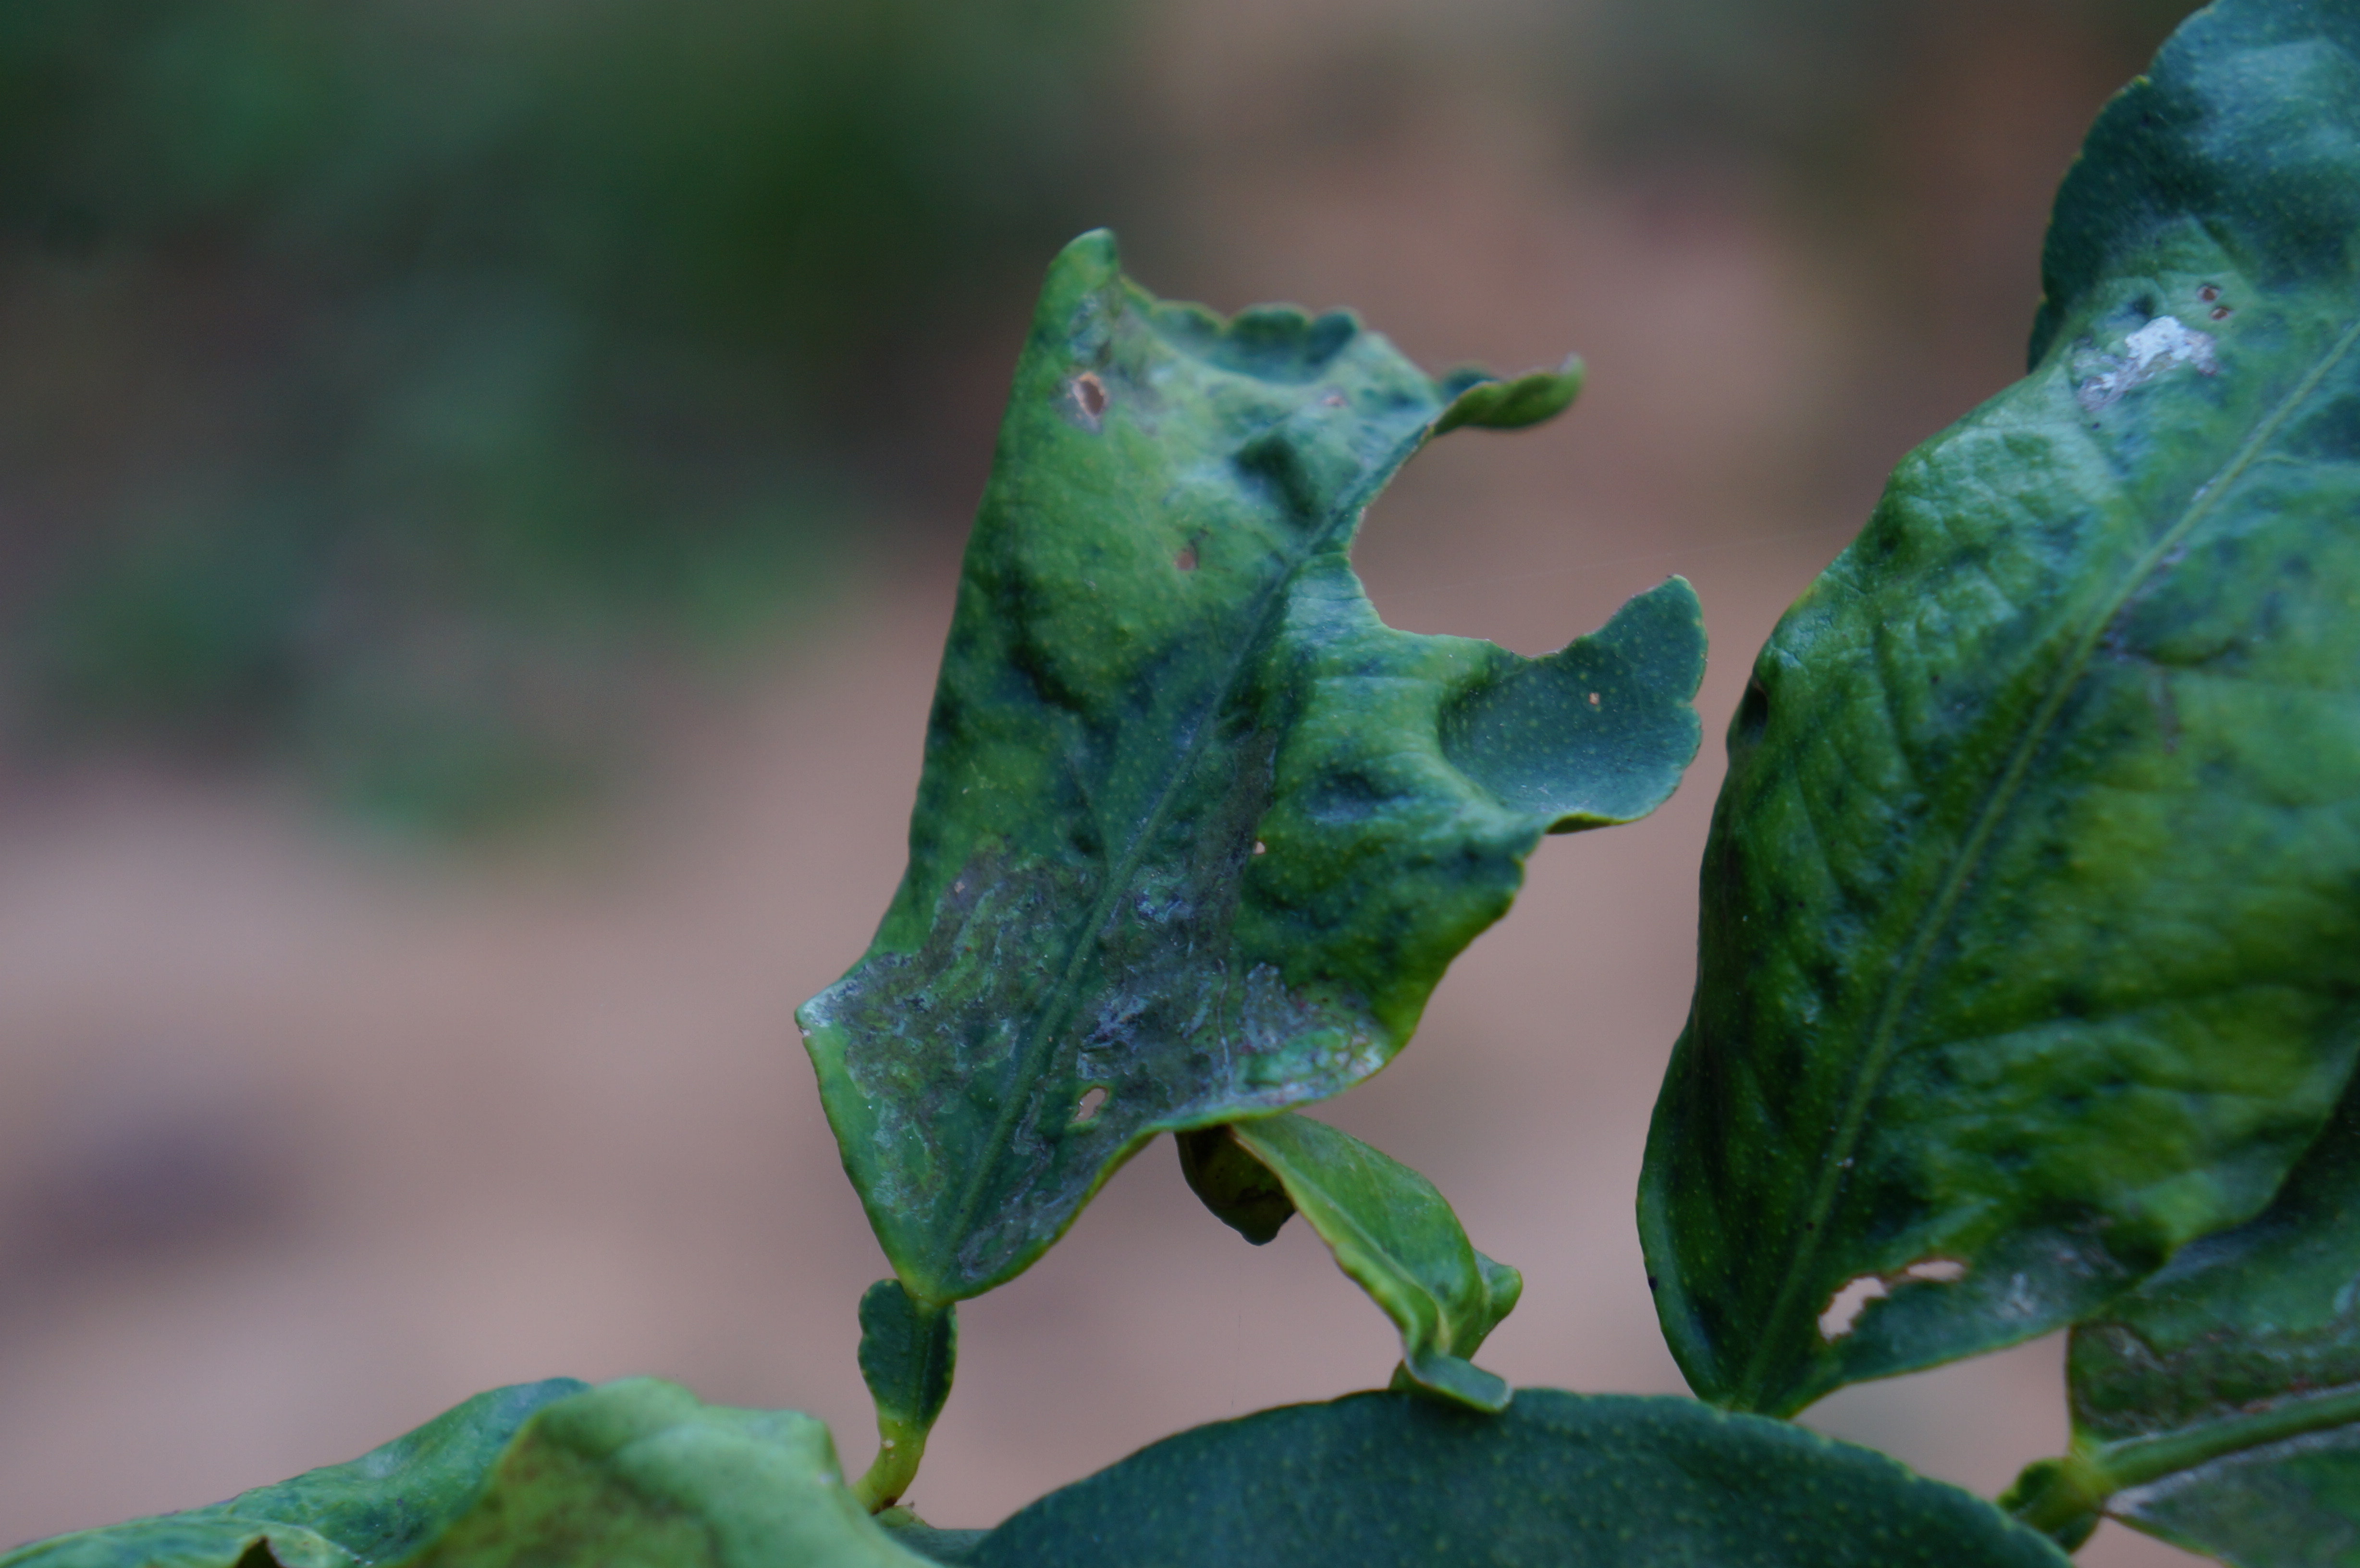damage: (765, 208, 1713, 1332), (1639, 168, 2360, 1424)
